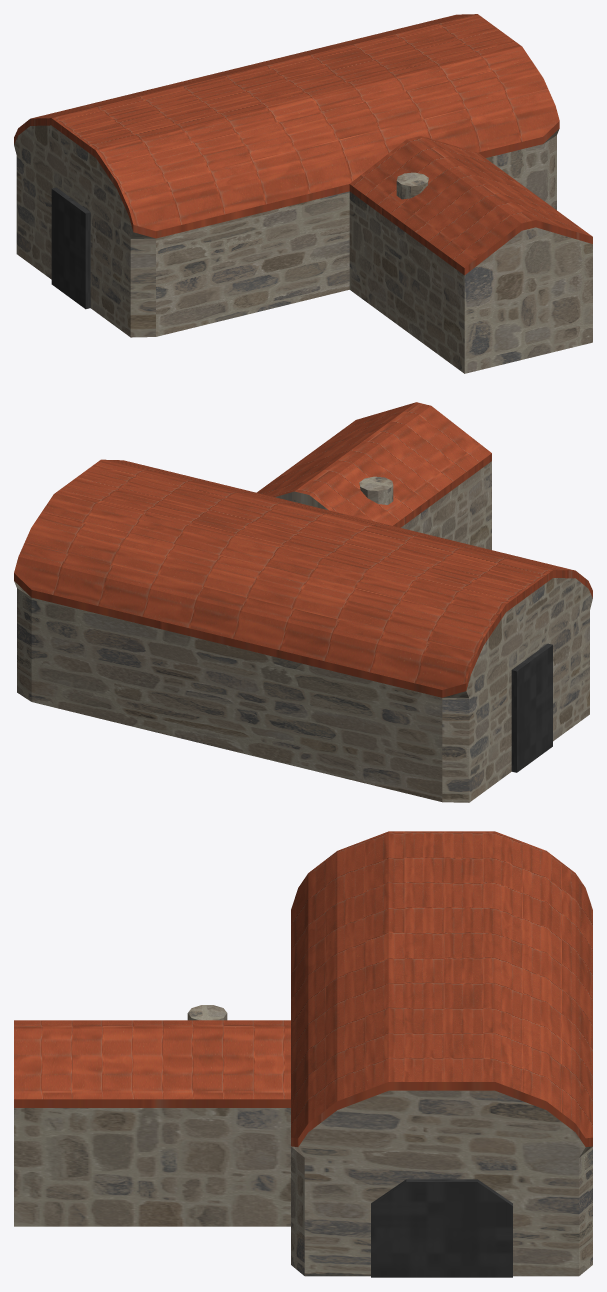
File: rural-house-big_1.fbx
3 views of the same model, one above another, from view 1: azimuth 30°, elevation 25°; view 2: azimuth 150°, elevation 25°; view 3: azimuth 270°, elevation 25° (orthographic). The views are drawn at different scales.
Visible parts, largest first — view 1: Cube.040; view 2: Cube.040; view 3: Cube.040.
Boxes of the visible parts, x1,y1,x2,y2 form: Cube.040: [14, 14, 592, 373]; Cube.040: [14, 402, 592, 802]; Cube.040: [14, 831, 592, 1277].
Bounding box in the file's own units: 953 × 337 × 911.
